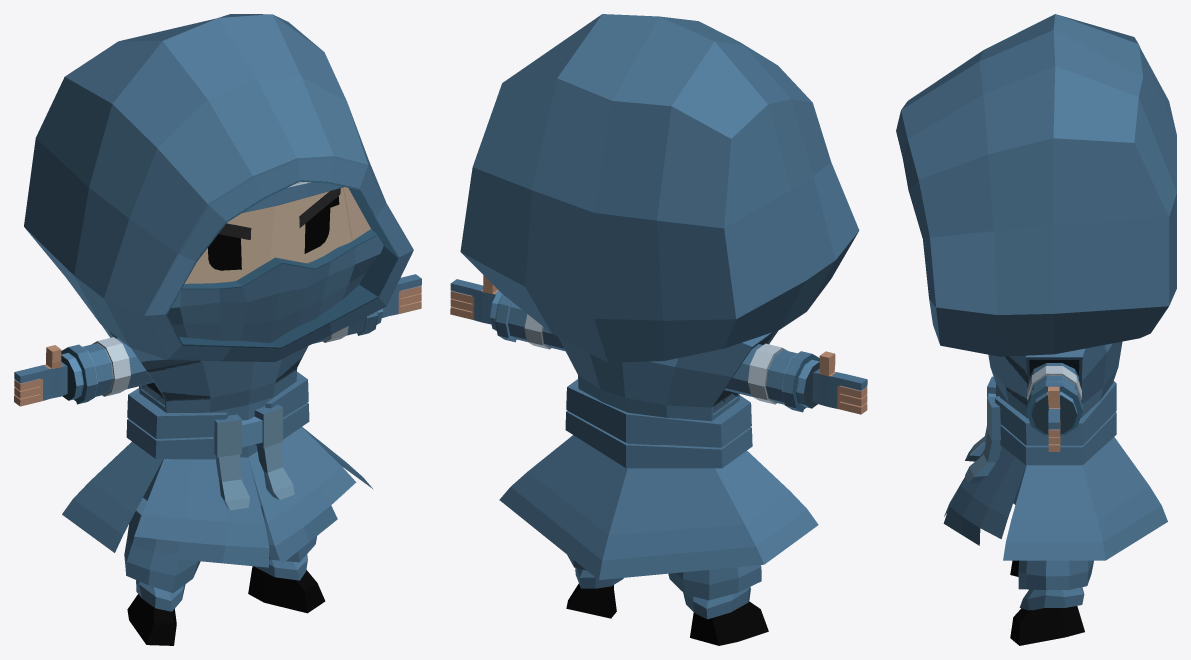
Rendered from low-poly-ninja.fbx.
3 views of the same model, side by side, from view 1: azimuth 30°, elevation 25°; view 2: azimuth 150°, elevation 25°; view 3: azimuth 270°, elevation 25° (orthographic). The views are drawn at different scales.
Visible parts, largest first — view 1: head, body, mask, blet, leg, arm, boot, hand, eye, band, eye brow; view 2: head, body, blet, arm, hand, leg, boot; view 3: head, body, blet, leg, arm, boot, hand.
Part boxes in pixels (box(x1,y1,x2,y2)): head: box(24, 14, 413, 361); body: box(62, 325, 373, 567); mask: box(167, 229, 383, 342); blet: box(126, 371, 309, 510); leg: box(124, 498, 316, 611); arm: box(61, 308, 383, 404); boot: box(127, 566, 325, 645); hand: box(14, 274, 421, 406); eye: box(208, 196, 339, 270); band: box(242, 181, 343, 212); eye brow: box(219, 188, 340, 239); head: box(460, 14, 859, 362); body: box(499, 330, 818, 579); blet: box(565, 379, 752, 468); arm: box(490, 290, 819, 412); hand: box(450, 275, 867, 414); leg: box(567, 555, 761, 619); boot: box(566, 583, 768, 645); head: box(896, 14, 1176, 356); body: box(943, 341, 1167, 560); blet: box(965, 376, 1116, 483); leg: box(1018, 560, 1093, 610); arm: box(1026, 363, 1082, 435); boot: box(1010, 560, 1084, 645); hand: box(1048, 386, 1060, 451).
Bounding box in the file's own units: 334 × 473 × 209.
2 materials, 2 textured.
